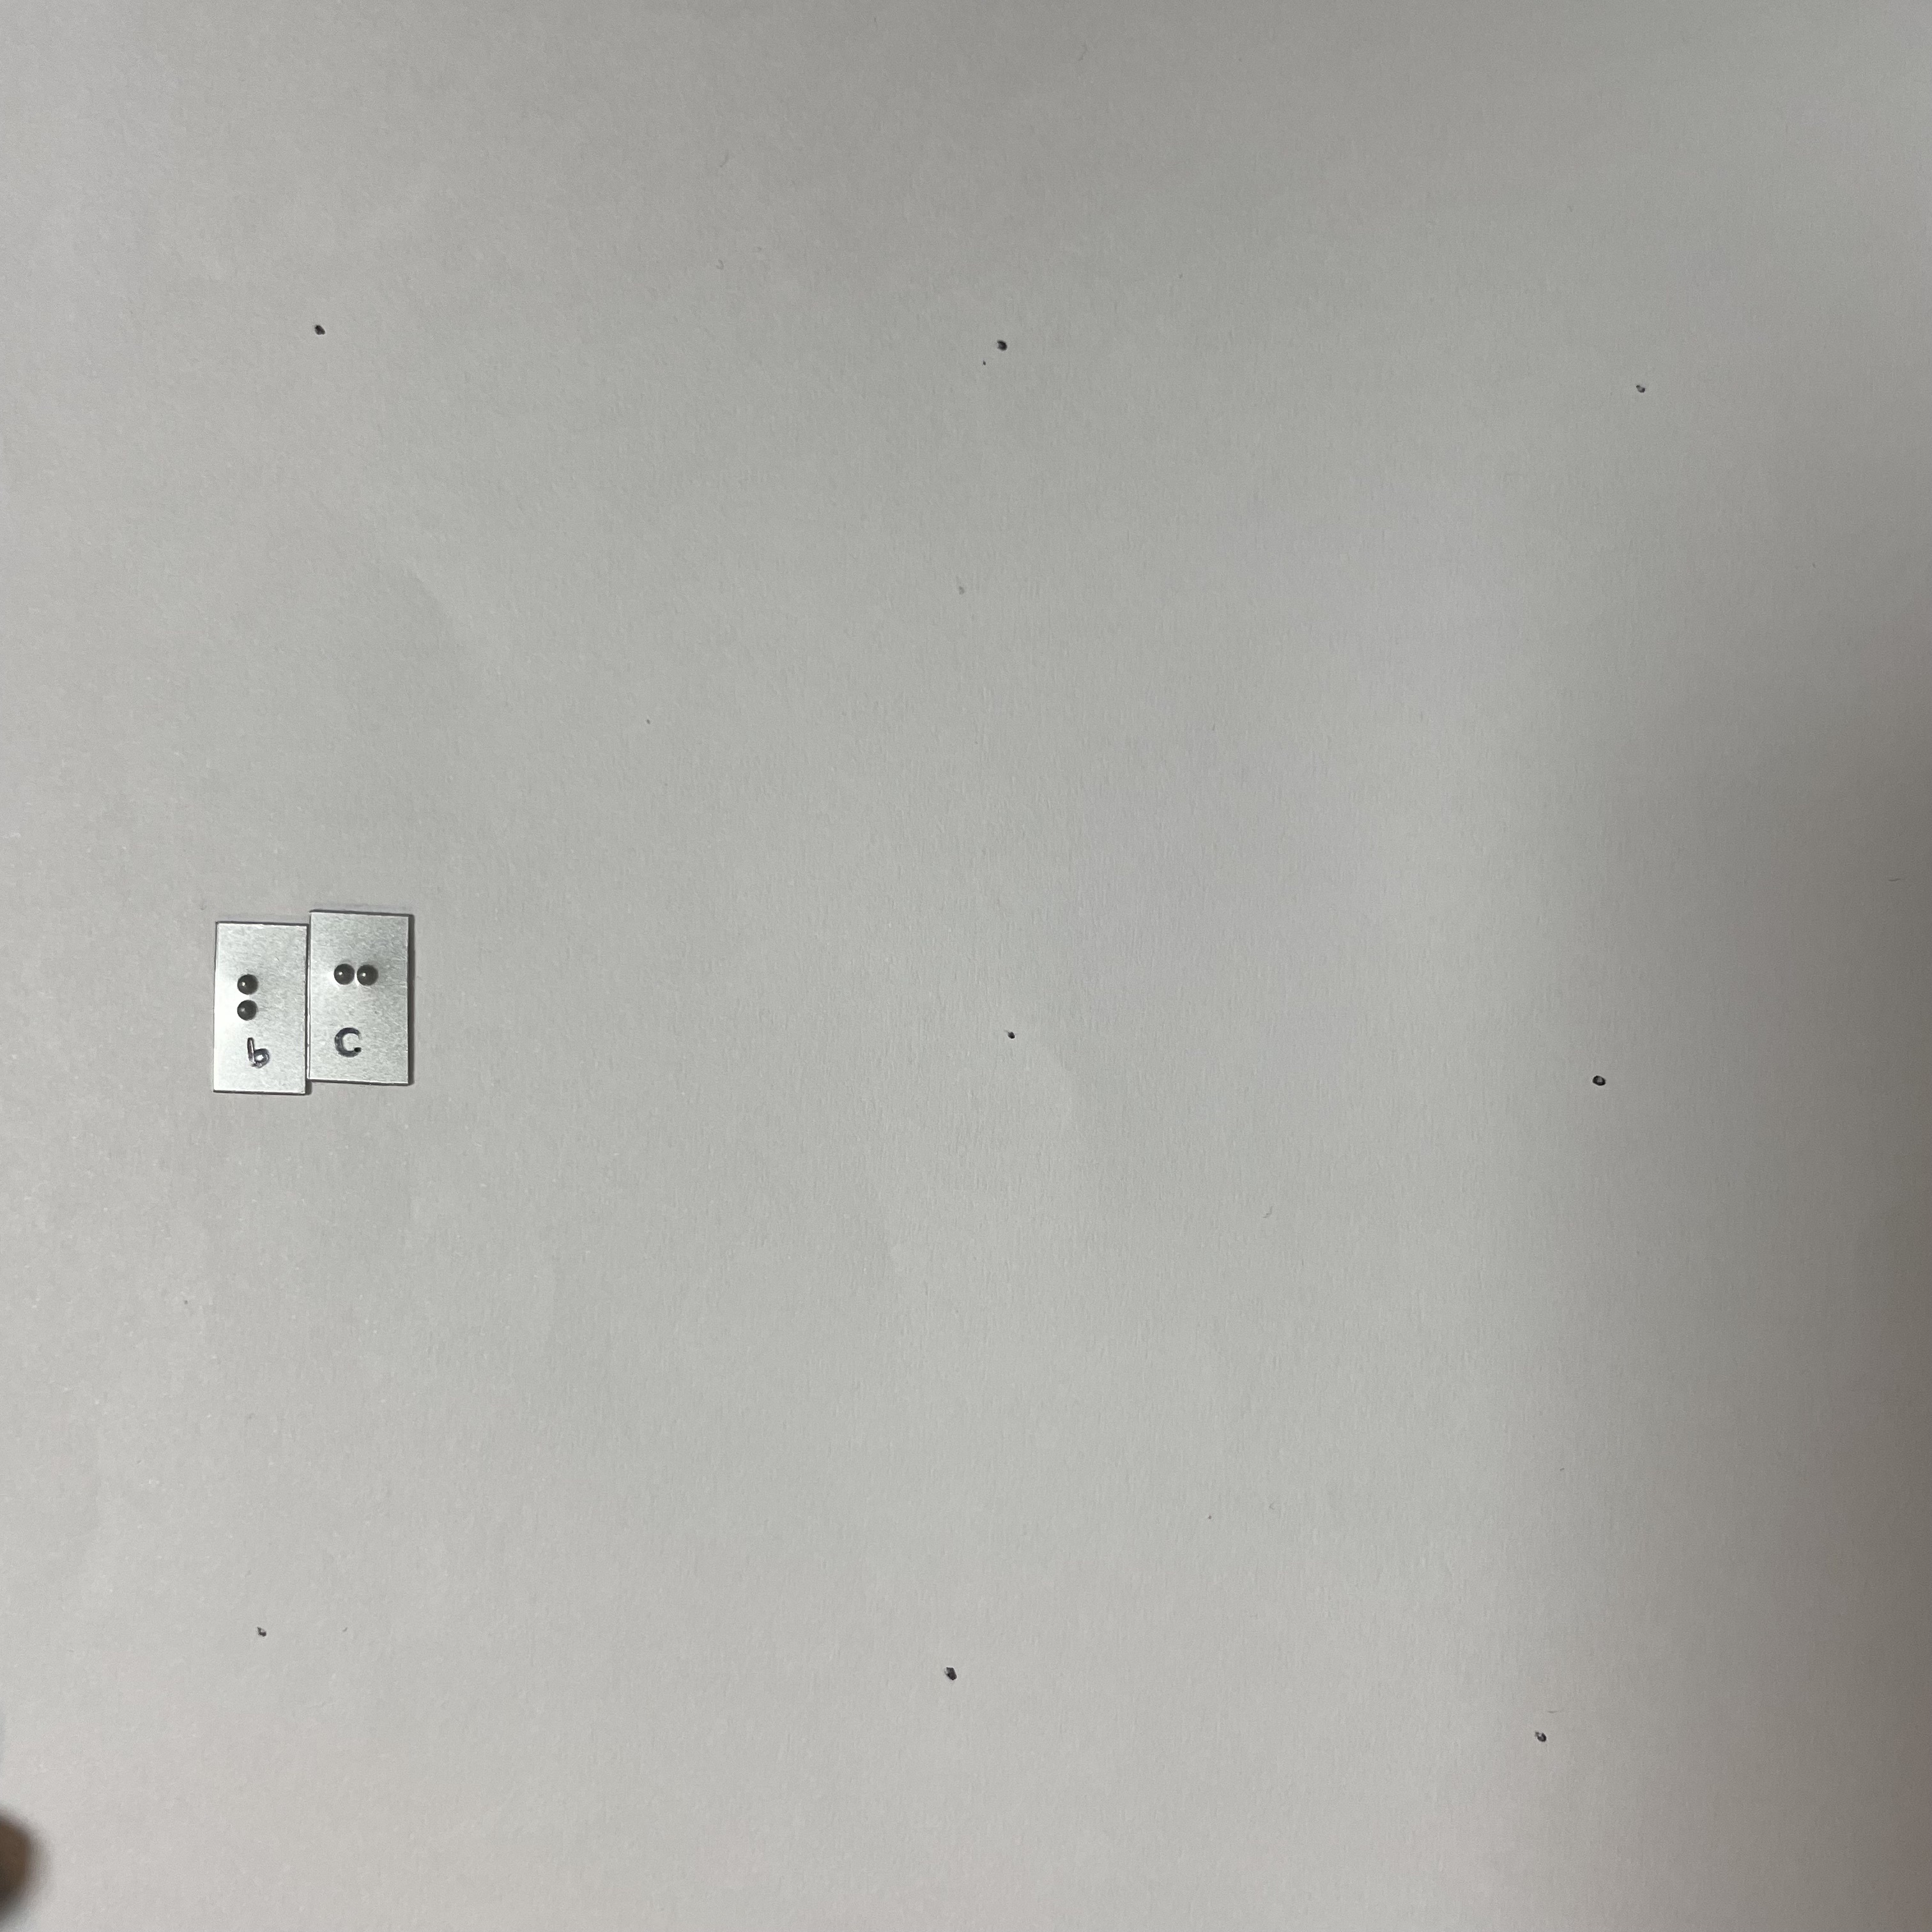b: (234, 963, 291, 1044)
c: (326, 956, 393, 1039)
